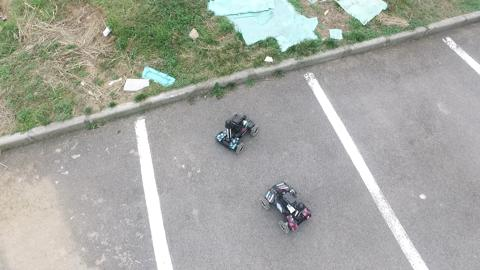chariot: (254, 176, 324, 235), (210, 105, 260, 162)
